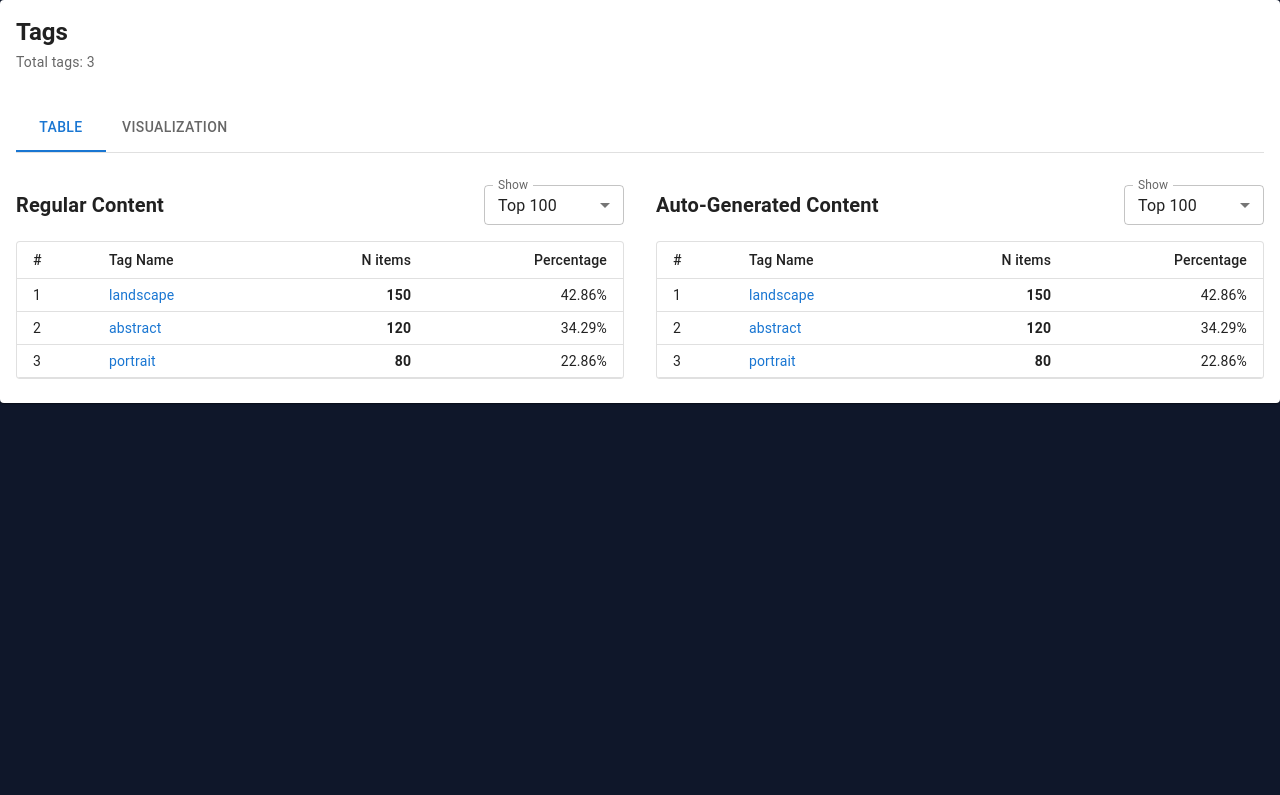
Test case: TagCardinalityCard › Visualization Tab › shows histogram visualization
Click the tab with test id "tag-cardinality-tab-visualization": (175, 128) 106,104 -> 244,152
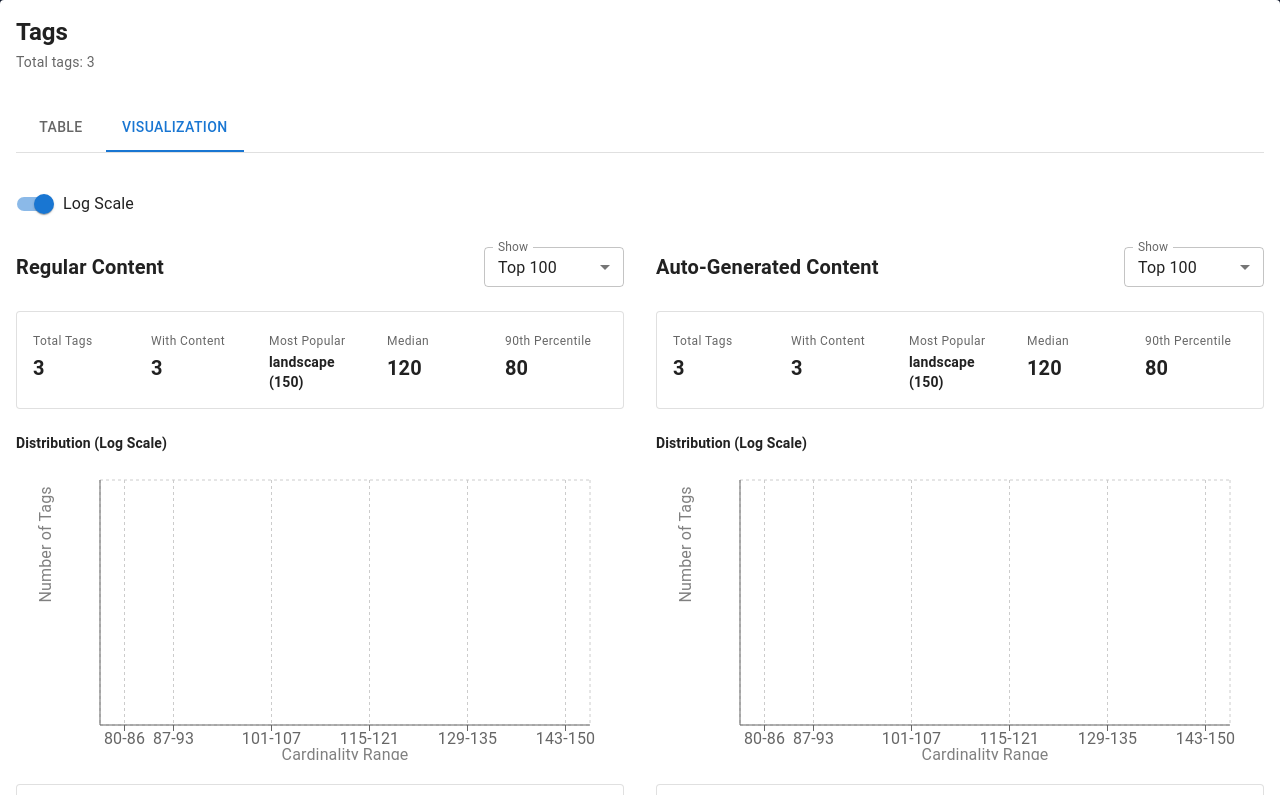
Result: the element with test id "histogram" is shown at 16,433 -> 624,760
